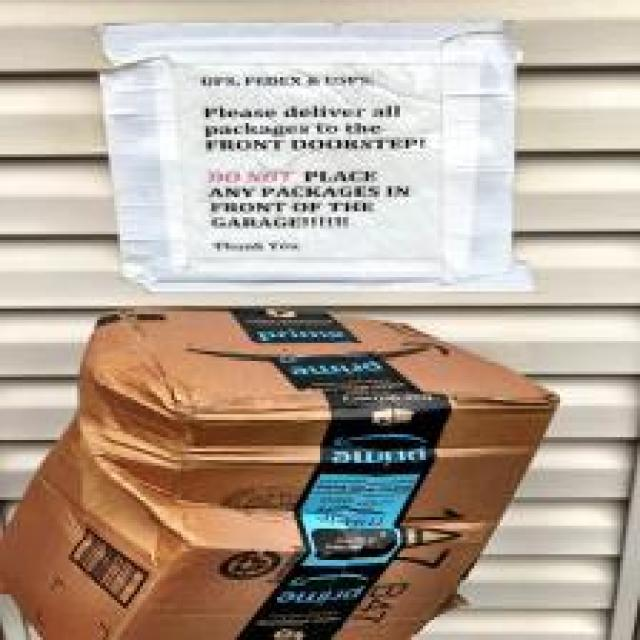box: (90, 12, 556, 632)
